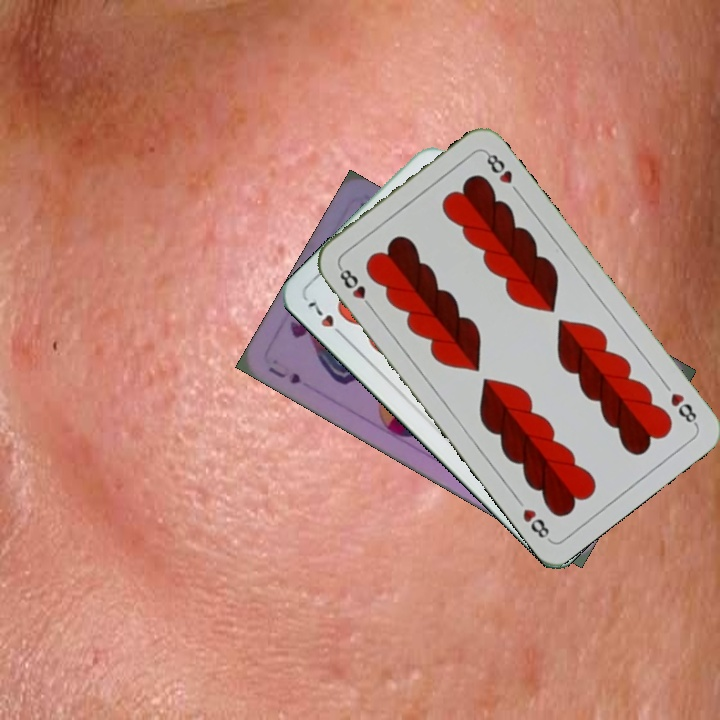H7: (303, 296, 349, 342)
H8: (335, 262, 376, 313), (666, 388, 701, 428)
SU: (264, 362, 304, 387)
